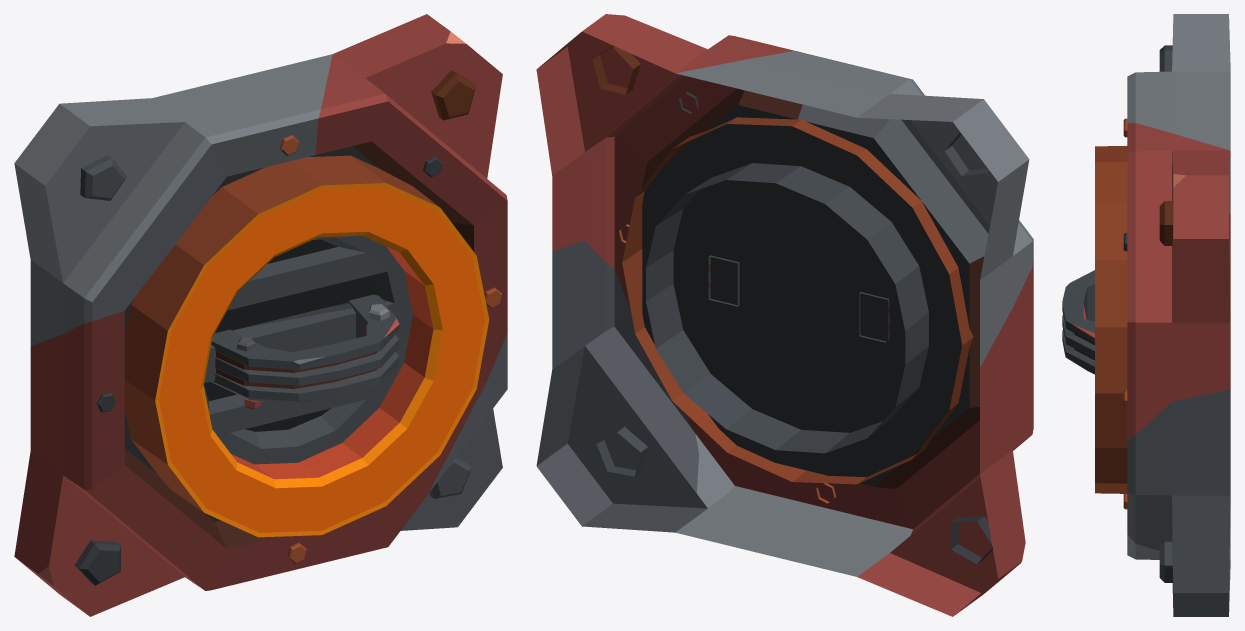
The model's file is VR_SP_RotatingBase_01a.glb.
The picture shows the model from 3 angles, left to right: view 1: azimuth 30°, elevation 25°; view 2: azimuth 150°, elevation 25°; view 3: azimuth 270°, elevation 25°; orthographic projection. The views are drawn at different scales.
Visible parts, largest first — view 1: VR_SP_RotatingBase_01a, VR_SP_RotatingBase_btn; view 2: VR_SP_RotatingBase_01a, VR_SP_RotatingBase_btn; view 3: VR_SP_RotatingBase_01a, VR_SP_RotatingBase_btn.
Boxes of the visible parts, x1=… form: VR_SP_RotatingBase_01a: x1=14, y1=14, x2=507, y2=616; VR_SP_RotatingBase_btn: x1=124, y1=155, x2=489, y2=537; VR_SP_RotatingBase_01a: x1=536, y1=14, x2=1033, y2=616; VR_SP_RotatingBase_btn: x1=622, y1=117, x2=973, y2=484; VR_SP_RotatingBase_01a: x1=1062, y1=14, x2=1230, y2=616; VR_SP_RotatingBase_btn: x1=1095, y1=146, x2=1127, y2=493.
Bounding box in the file's own units: 1.04 × 1.06 × 0.3671.
Materials: 1 (1 with a texture image).
